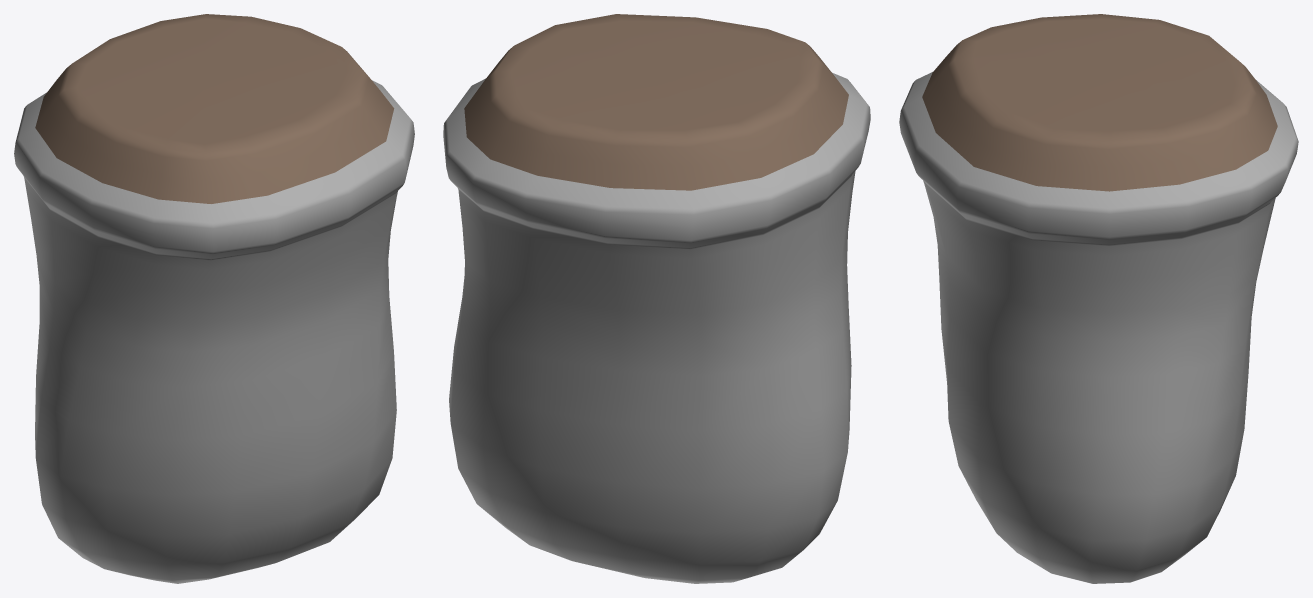
Rendered from SM_Wheatbag_Var3.fbx.
3 views of the same model, side by side, from view 1: azimuth 30°, elevation 25°; view 2: azimuth 150°, elevation 25°; view 3: azimuth 270°, elevation 25° (orthographic). The views are drawn at different scales.
Visible parts, largest first — view 1: SM_Wheatbag_Var3; view 2: SM_Wheatbag_Var3; view 3: SM_Wheatbag_Var3.
Boxes of the visible parts, box(x1,y1,x2,y2) form: SM_Wheatbag_Var3: box(14, 14, 414, 583); SM_Wheatbag_Var3: box(443, 14, 870, 583); SM_Wheatbag_Var3: box(899, 14, 1298, 583).
Bounding box in the file's own units: 42.6 × 54.3 × 42.7.
